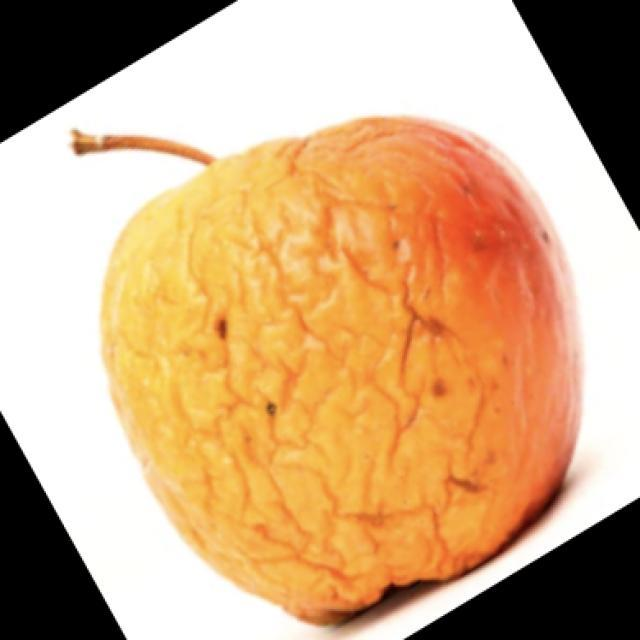Rotten: (90, 123, 573, 607)
